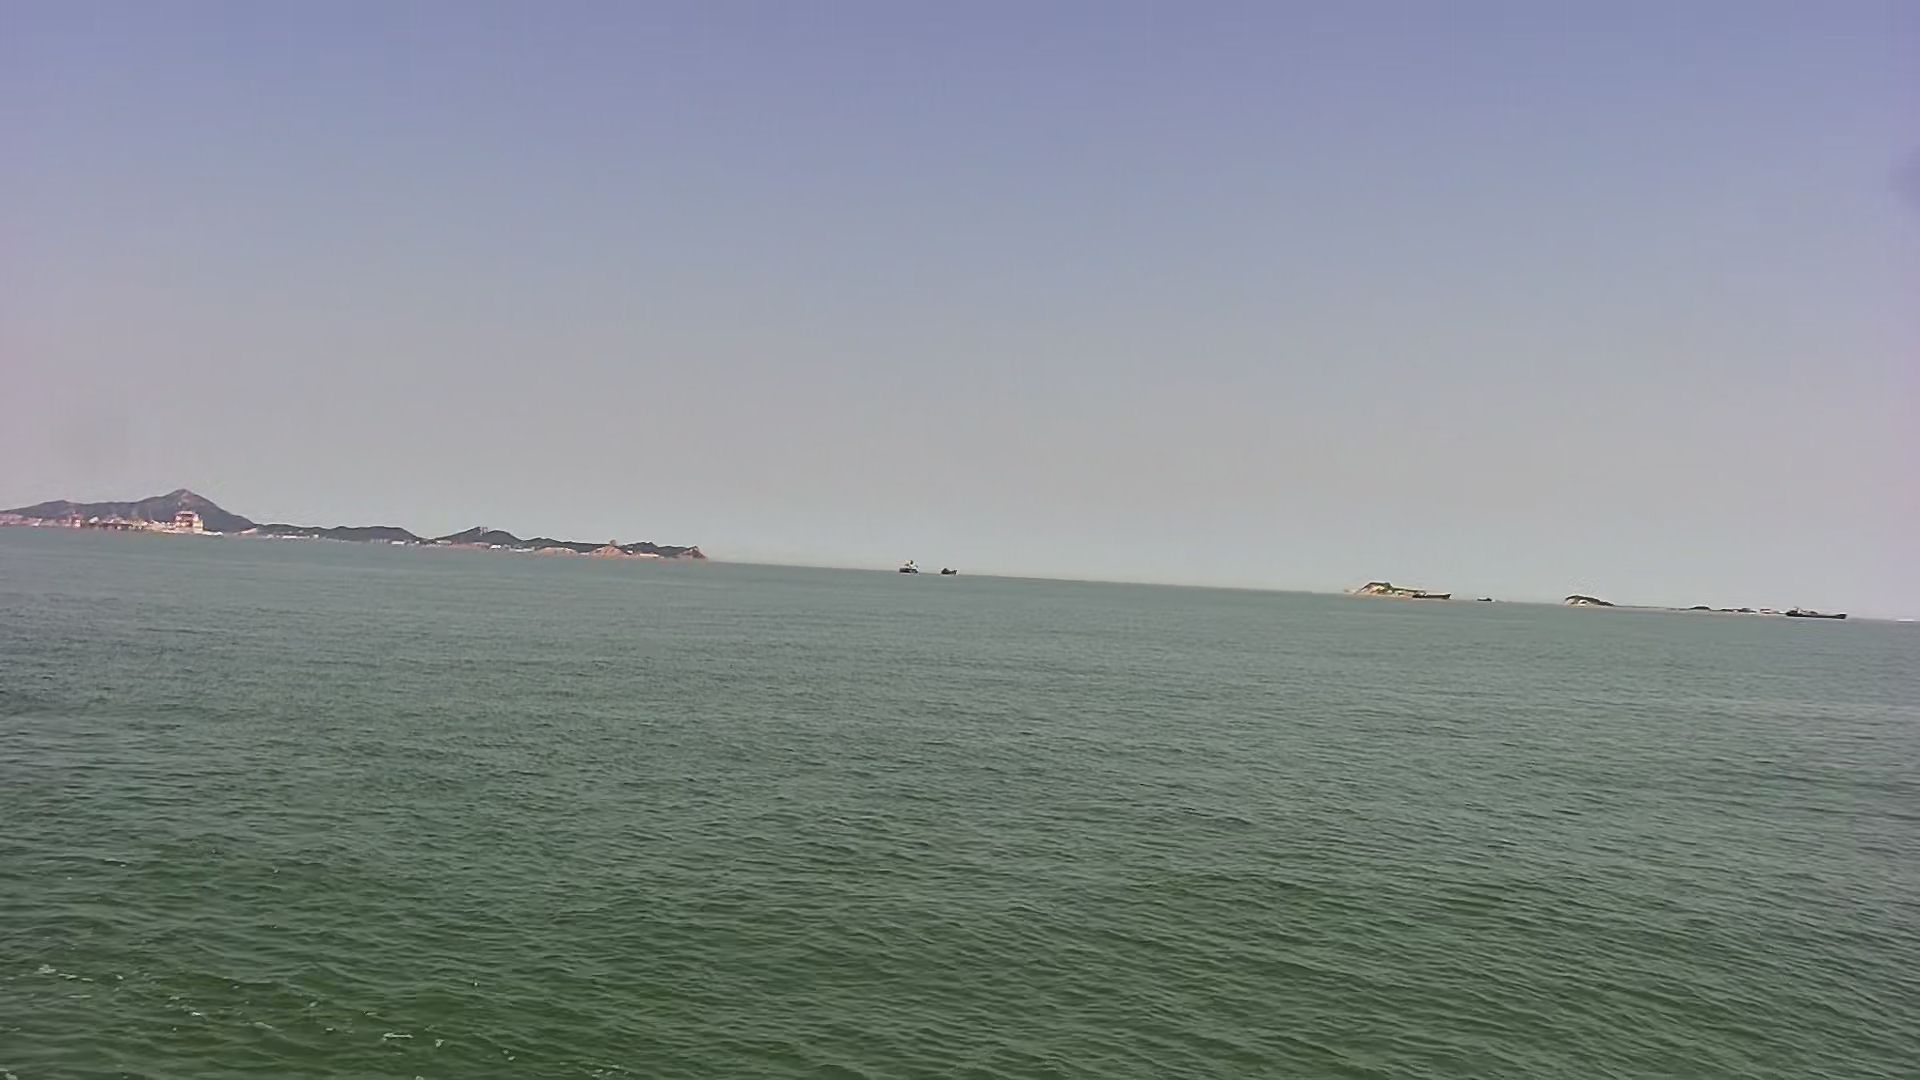boat: (891, 551, 924, 578), (936, 567, 960, 587)
rock: (12, 483, 716, 564), (1685, 601, 1858, 624), (1338, 580, 1466, 604), (1553, 593, 1622, 615)
